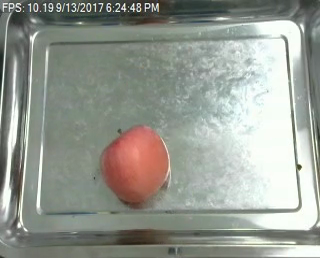Apple: (99, 123, 169, 208)
